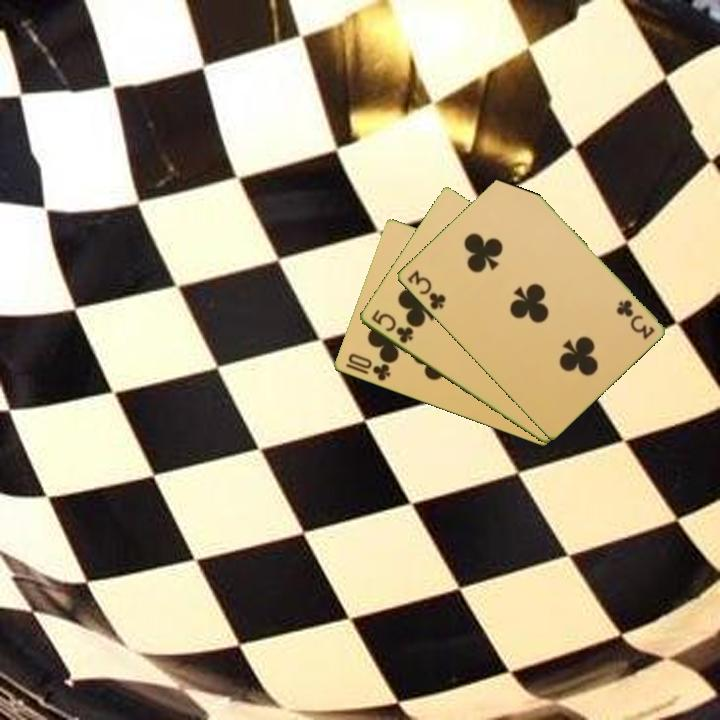10c: (344, 350, 393, 384)
3c: (403, 266, 449, 313), (613, 296, 657, 342)
5c: (368, 306, 416, 346)
